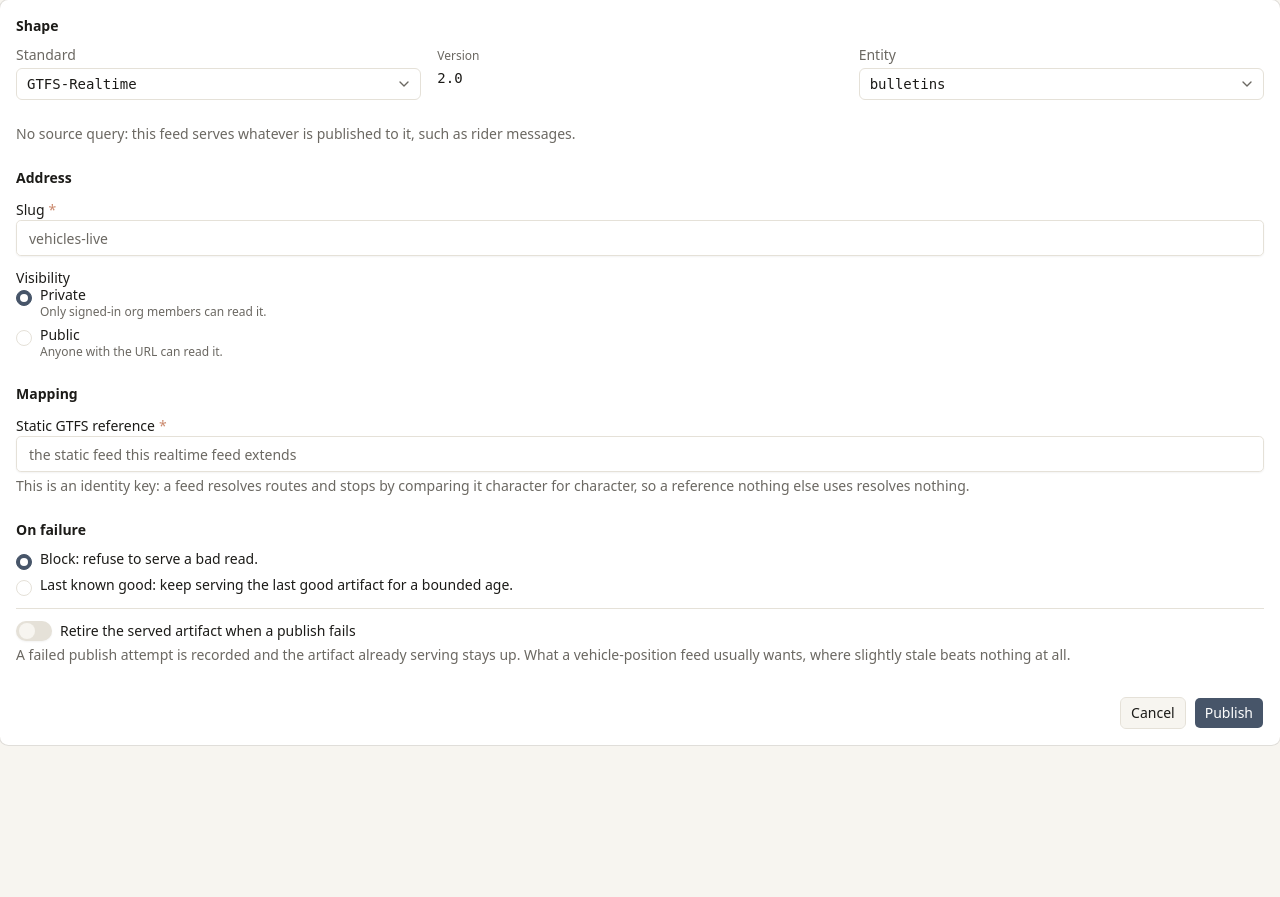
Test case: what stands where the source section would be › drops a refusal about the source once the entity no longer has one
Click the dropdown named "entity": [908, 84] box left=859, top=68, right=1264, bottom=100
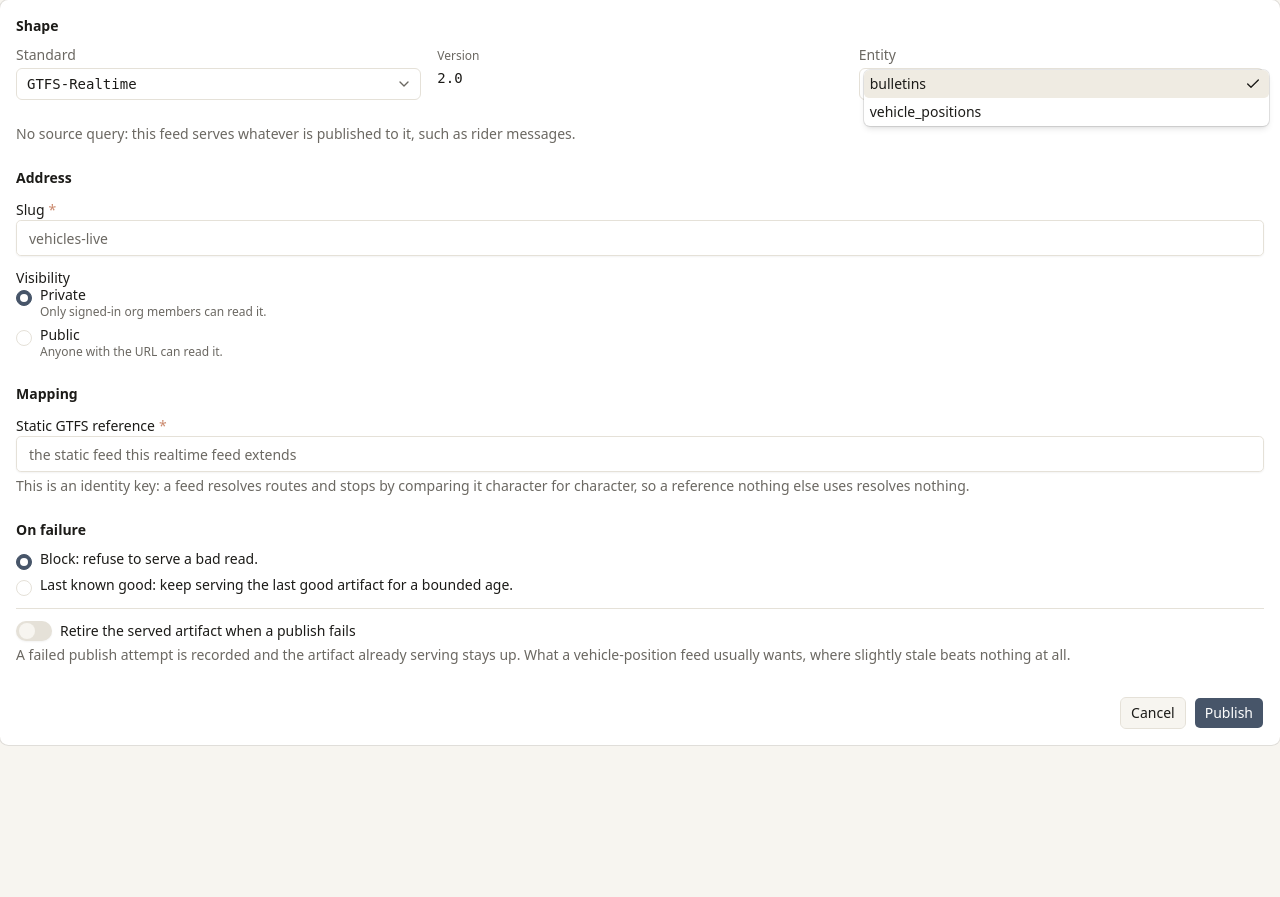
Click the option "vehicle_positions": [926, 112] box left=870, top=102, right=981, bottom=121
(page scrolled)
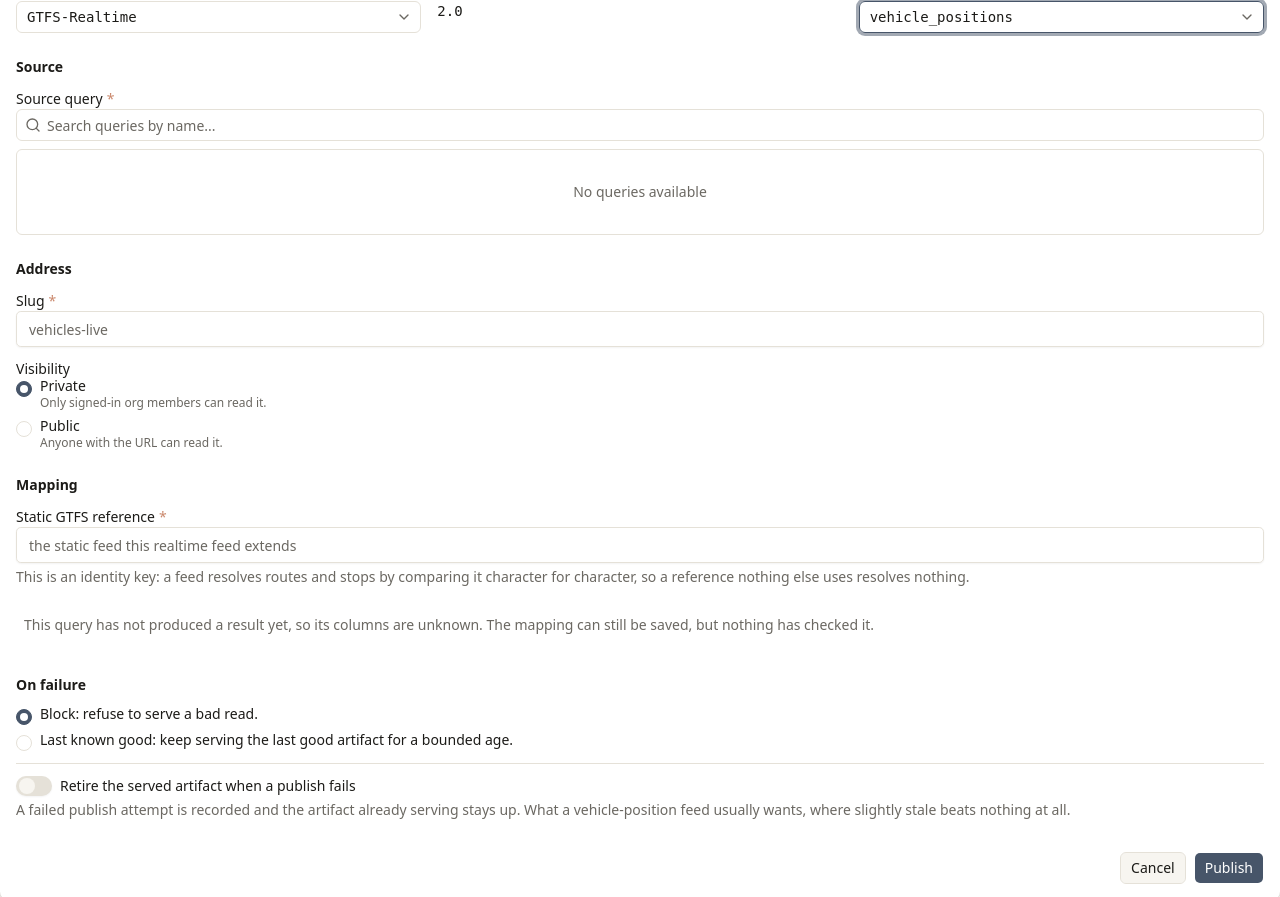
Click the button "Publish": [1229, 868] box left=1194, top=852, right=1264, bottom=884
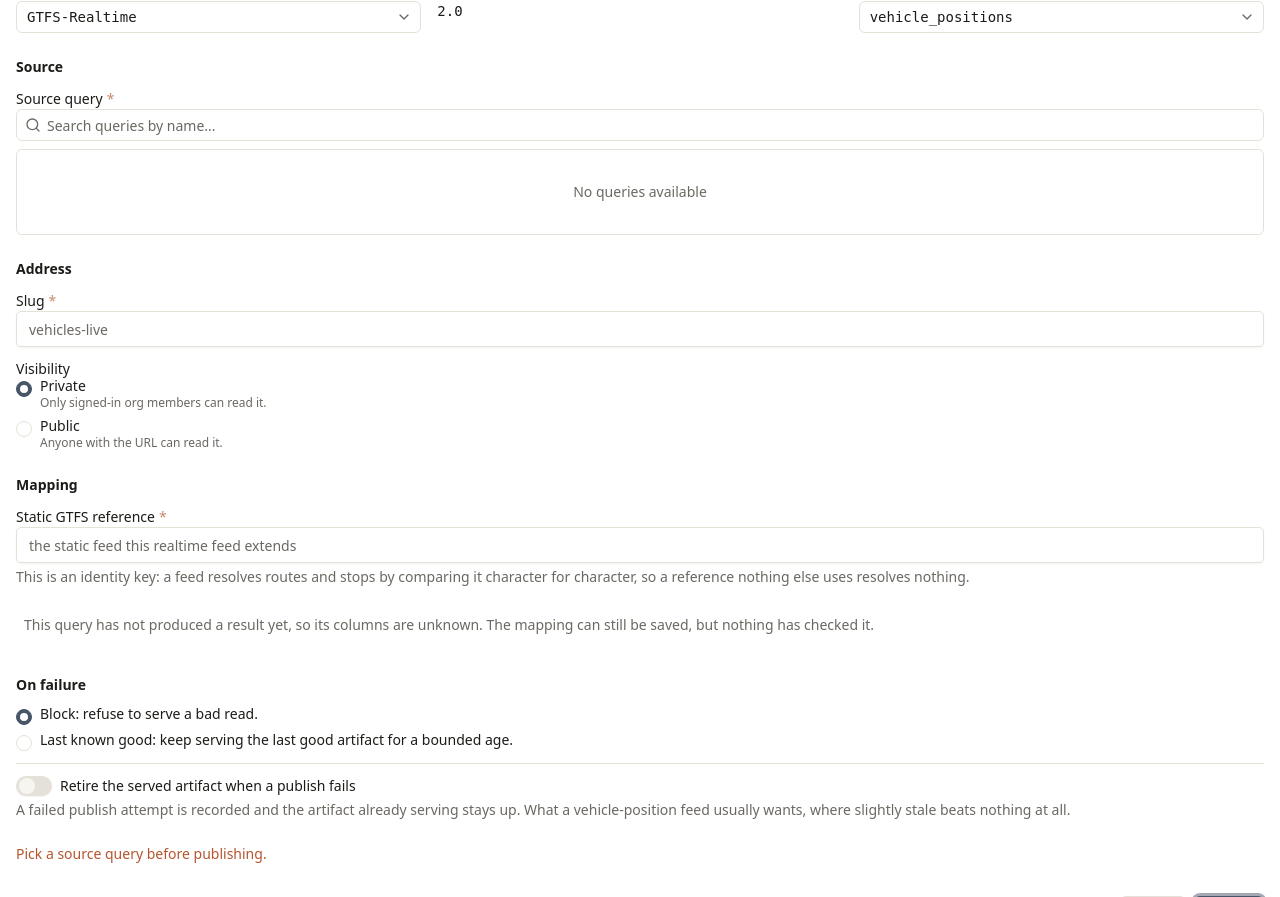
Expected: the text "Pick a source query before publishing." is shown, left=16, top=844, right=267, bottom=863
Click the dropdown named "entity": [941, 17] box left=859, top=1, right=1264, bottom=33
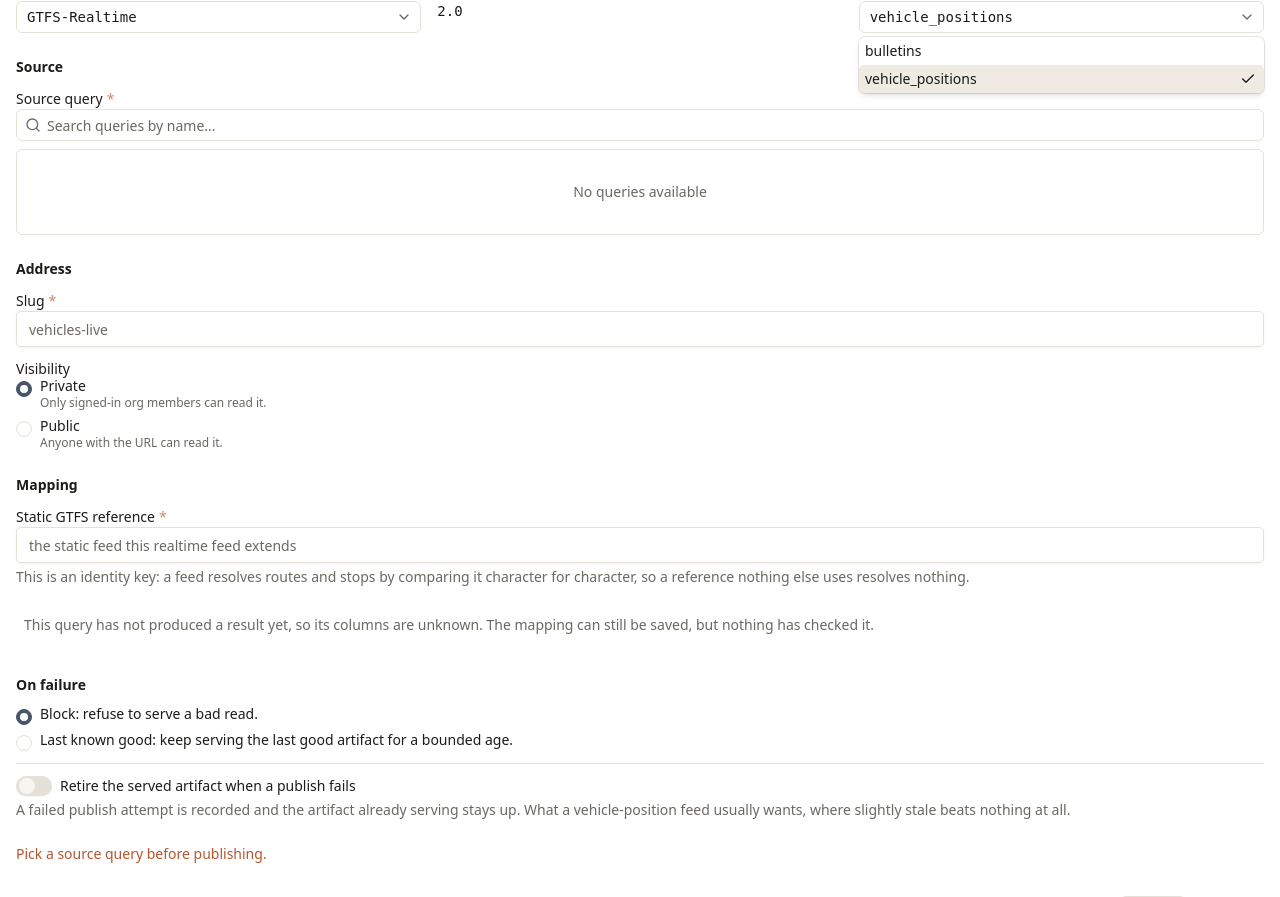
Click the option "bulletins": [893, 50] box left=865, top=41, right=921, bottom=60
(page scrolled)
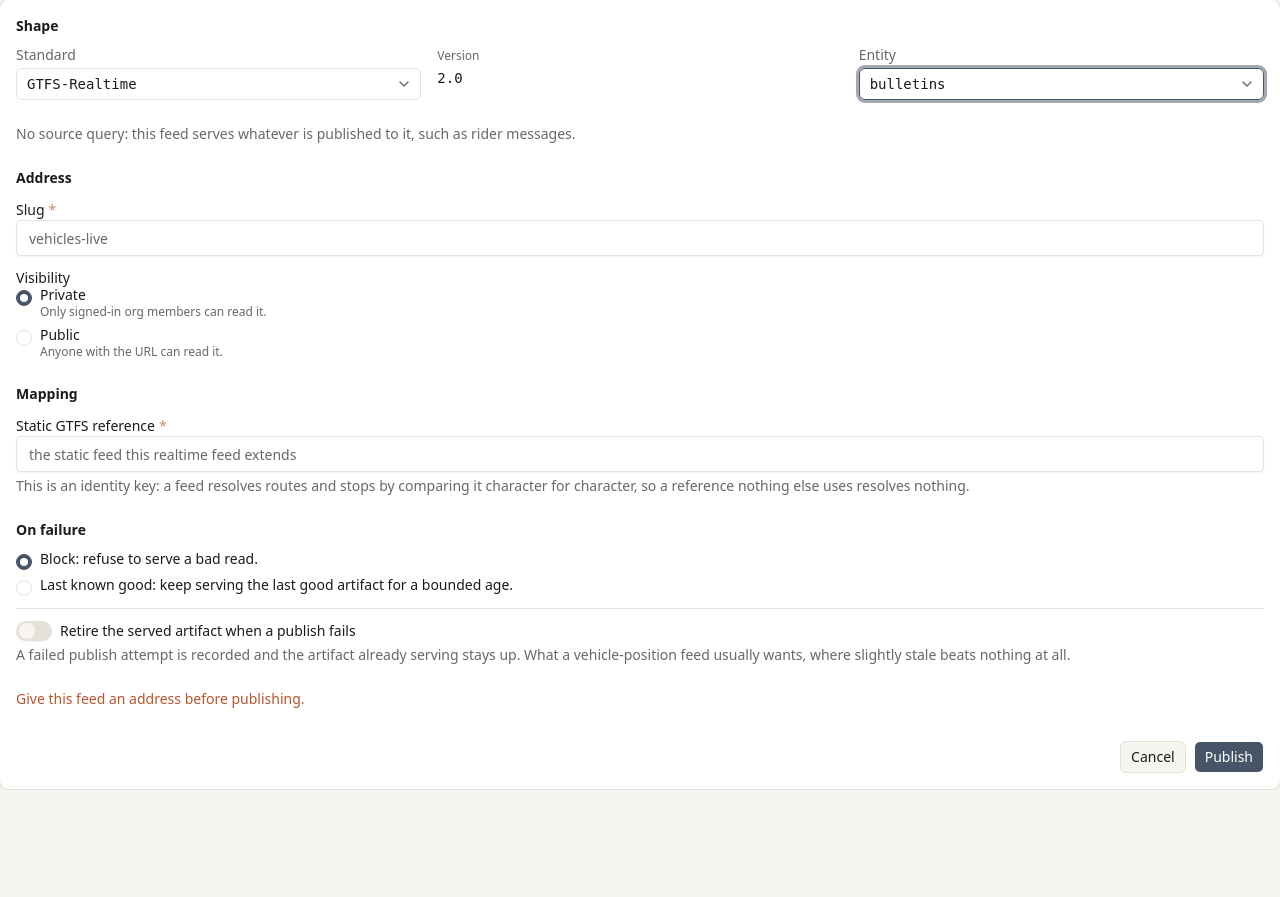
Expected: the text "Pick a source query" is gone
